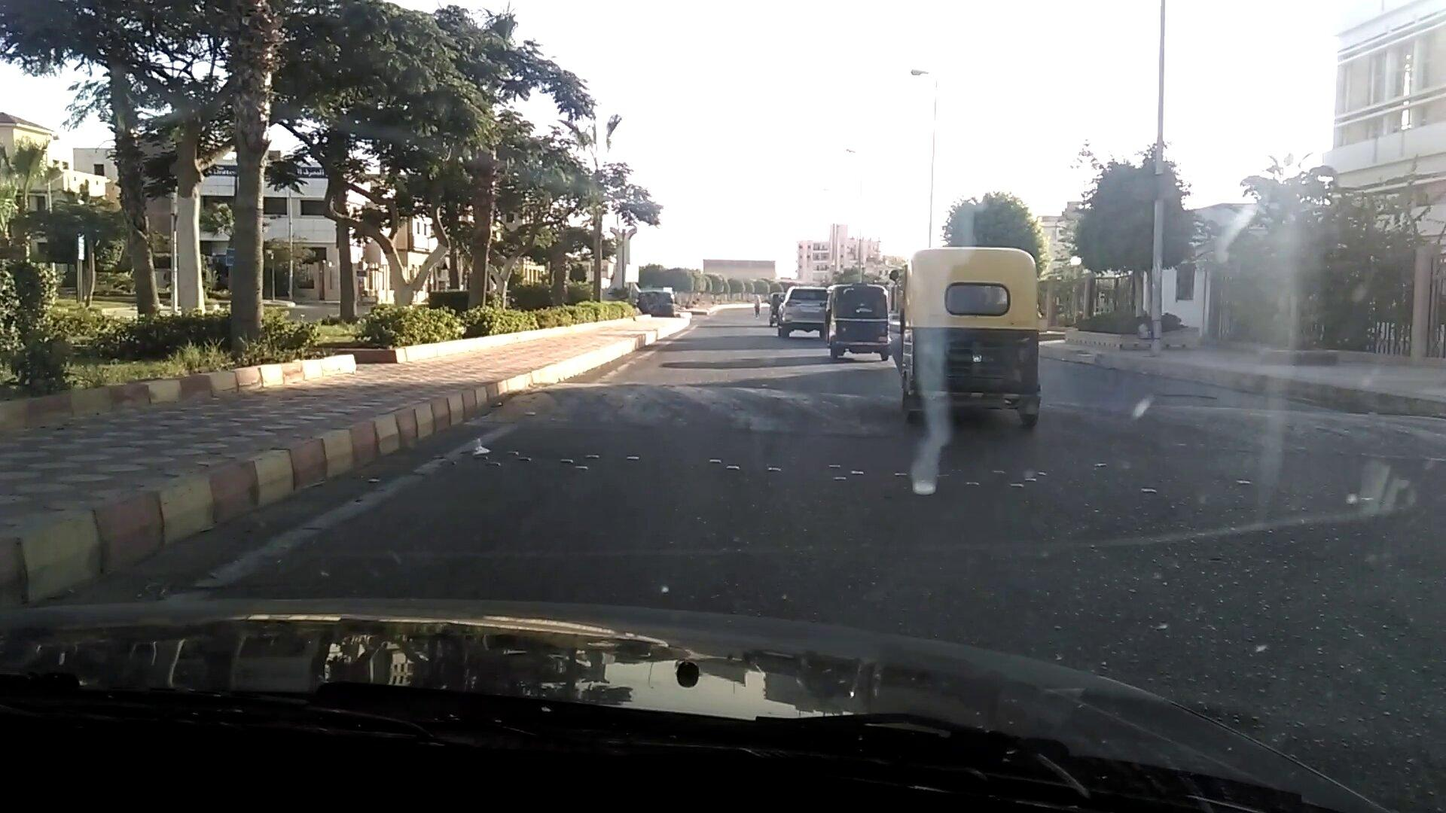Bump: (1041, 391, 1444, 461), (505, 378, 896, 444)
